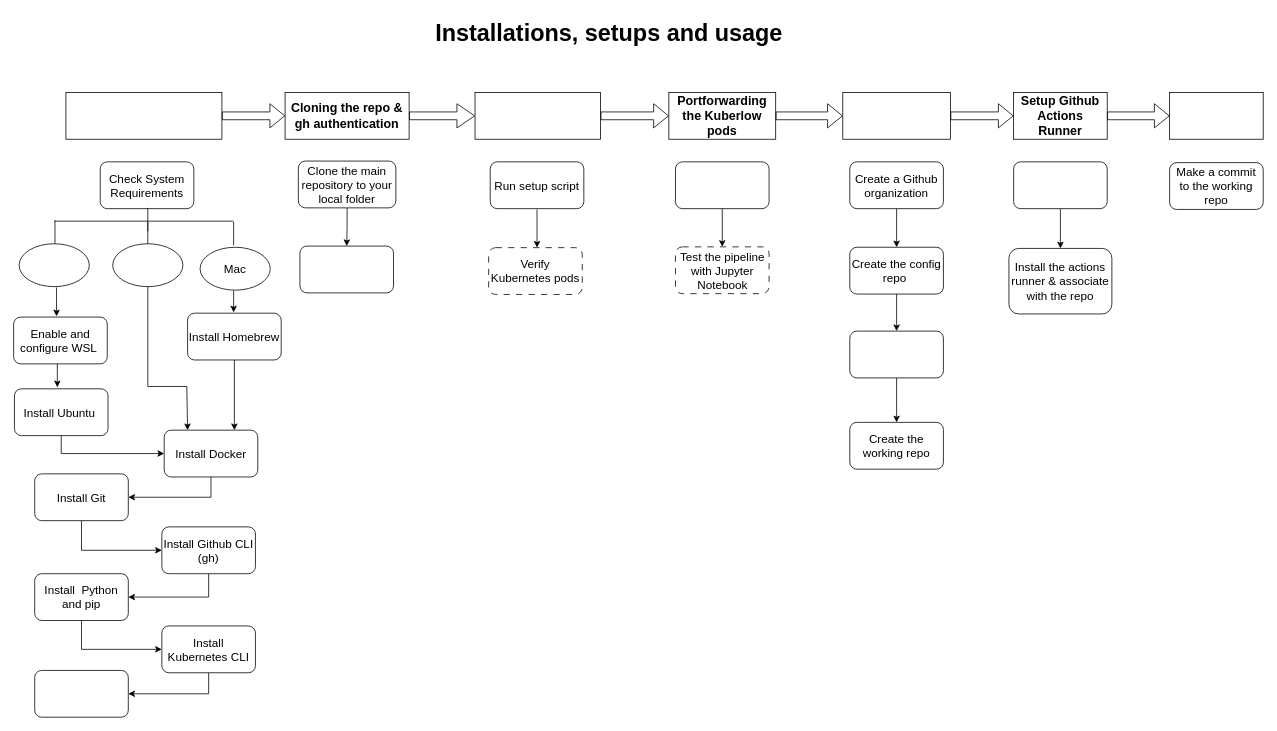
This 1277x731 diagram has some shape labels left out. The shapes that lost their labels are listed below. From the top down, each one's centre as x and y in pixels, then its label:
(143,115): Pre - Installation Setup
(537,115): Installing local MLOps platform
(896,115): Setup repositories and CI/CD pipelines
(1216,115): Start the run on MLOps platform
(722,185): Forward the pods' ports
(1060,185): Enable the Github actions
(53,265): Windows
(147,265): Linux
(346,269): Authentication with Github
(896,354): Setup the environmental secrets
(81,693): Install Jupyter Notebook
